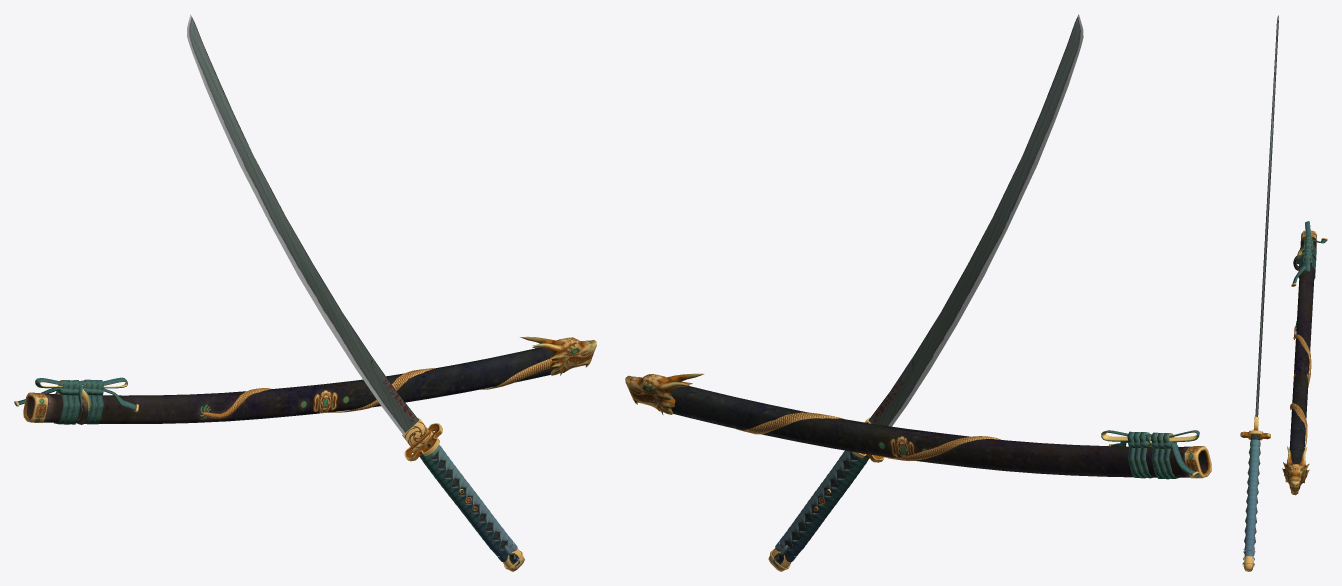
The picture shows the model from 3 angles, left to right: view 1: azimuth 30°, elevation 25°; view 2: azimuth 150°, elevation 25°; view 3: azimuth 270°, elevation 25°; orthographic projection. The views are drawn at different scales.
Parts seen in each view (by area): view 1: ck_scabbard_low, ck_katana_low; view 2: ck_scabbard_low, ck_katana_low; view 3: ck_scabbard_low, ck_katana_low.
Part boxes in pixels (x1,y1,x2,y2): ck_scabbard_low: (14,336,596,424); ck_katana_low: (187,14,524,571); ck_scabbard_low: (625,373,1211,479); ck_katana_low: (768,14,1083,571); ck_scabbard_low: (1282,221,1327,495); ck_katana_low: (1240,15,1278,571).
Bounding box in the file's own units: 59.27 × 62.23 × 10.92.
Materials: 1 (1 with a texture image).
